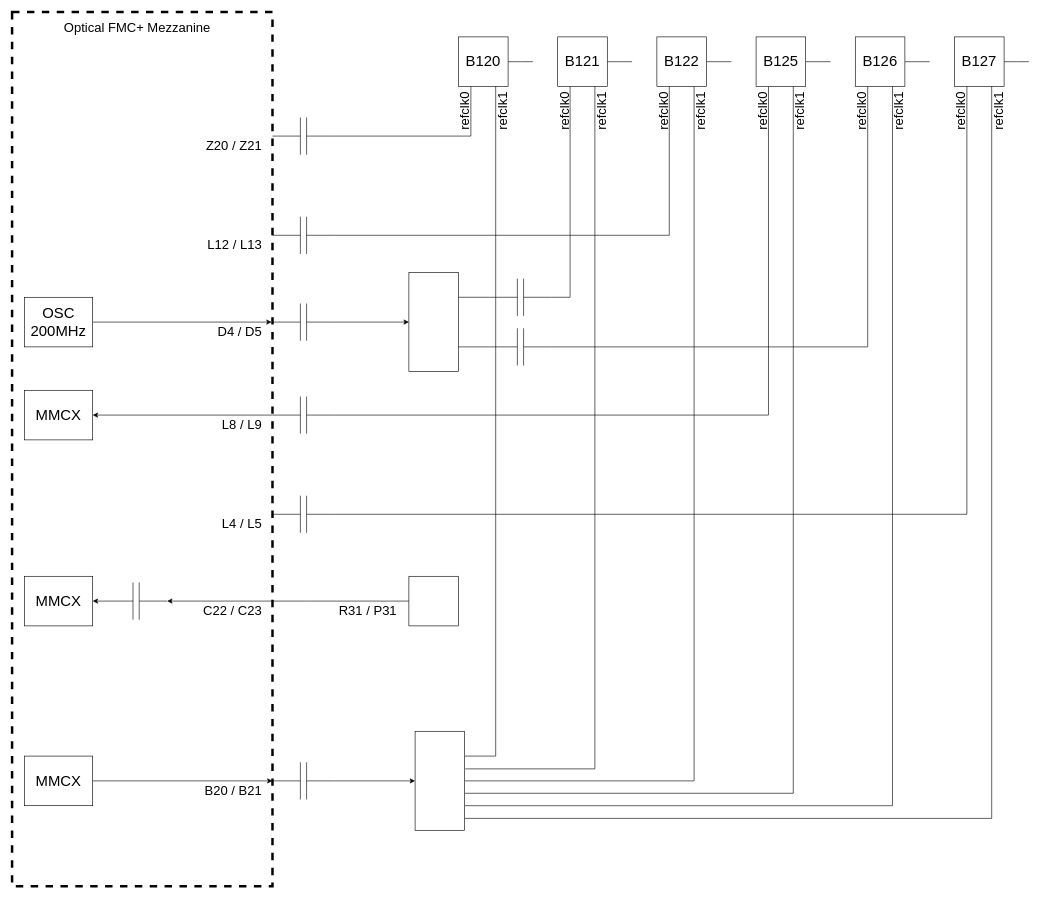
The diagram is 1040 pixels wide and 898 high, and some of its shapes have lost their labels. The shapes that lost their labels are listed below. From the top down, each one's box as (x1, y1, x2, y2) in pixels, then its label:
(408, 272, 458, 372): U40 Buff 1:2
(408, 576, 458, 626): B45 FPGA 1V8
(414, 731, 465, 830): U39 Buff 1:6
